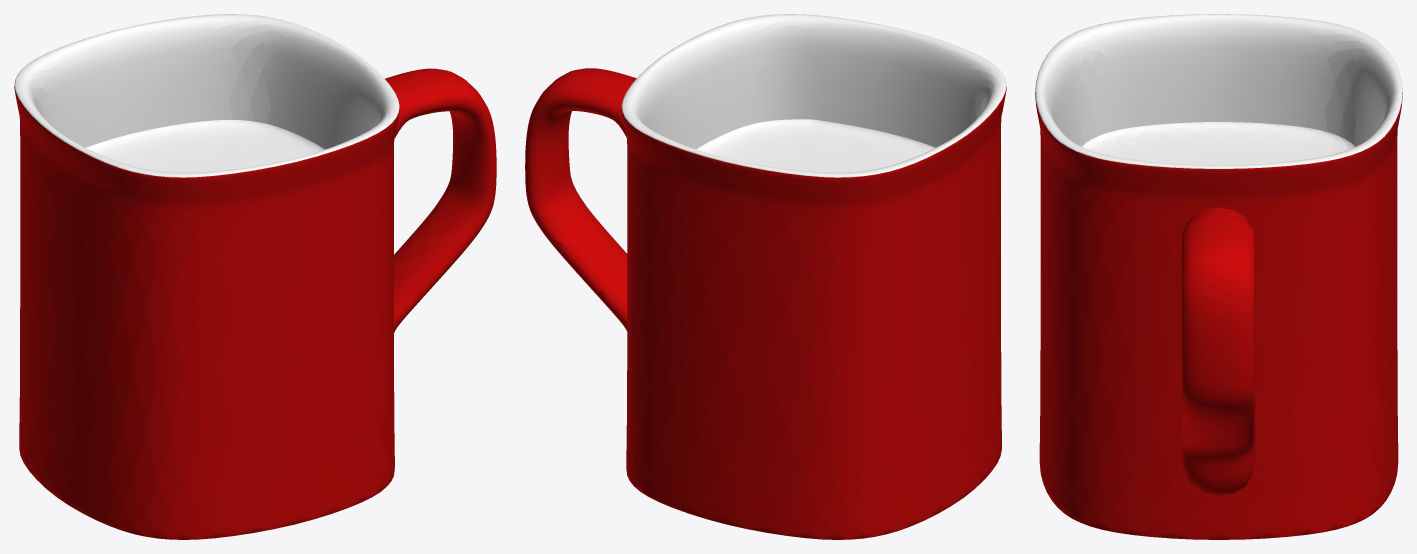
3 views of the same model, side by side, from view 1: azimuth 30°, elevation 25°; view 2: azimuth 150°, elevation 25°; view 3: azimuth 270°, elevation 25° (orthographic). The views are drawn at different scales.
Parts seen in each view (by area): view 1: mug0_001, cofee_001; view 2: mug0_001, cofee_001; view 3: mug0_001, cofee_001.
Boxes of the visible parts, box(x1,y1,x2,y2) form: mug0_001: box(14, 14, 496, 539); cofee_001: box(86, 119, 324, 172); mug0_001: box(525, 14, 1006, 539); cofee_001: box(696, 119, 935, 172); mug0_001: box(1035, 14, 1402, 539); cofee_001: box(1082, 122, 1355, 165).
Bounding box in the file's own units: 45.27 × 36.69 × 32.48.
